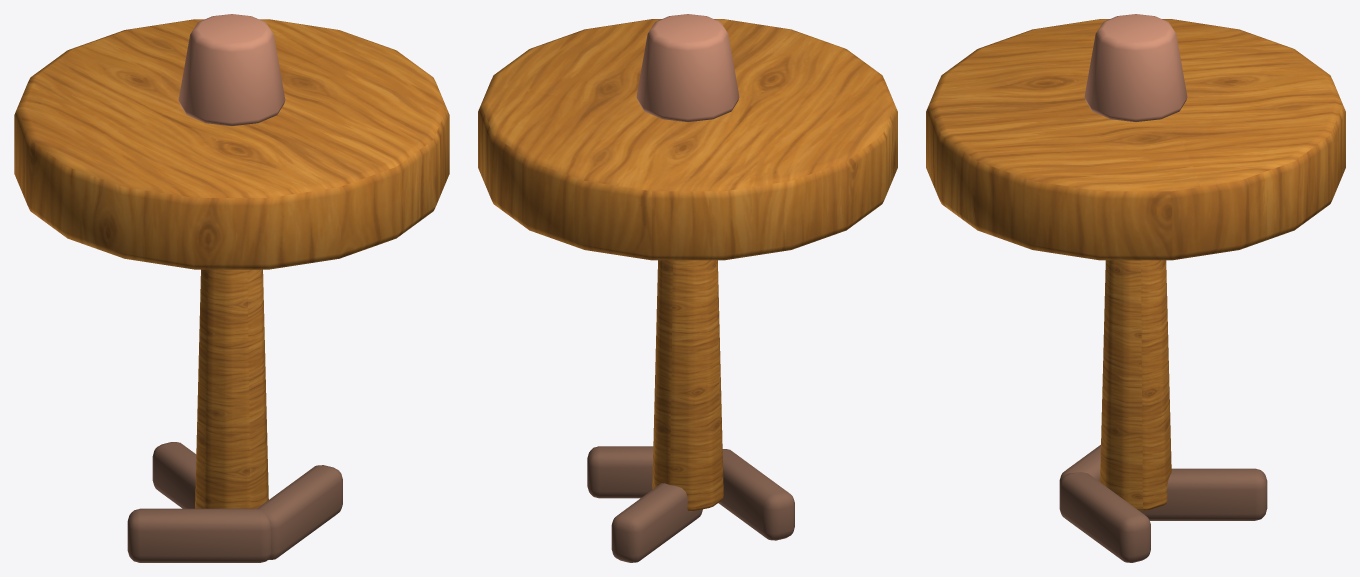
Rendered from side-table.glb.
3 views of the same model, side by side, from view 1: azimuth 30°, elevation 25°; view 2: azimuth 150°, elevation 25°; view 3: azimuth 270°, elevation 25° (orthographic). The views are drawn at different scales.
Visible parts, largest first — view 1: side-table; view 2: side-table; view 3: side-table.
Part boxes in pixels (x1,y1,x2,y2): side-table: [14, 14, 449, 562]; side-table: [478, 14, 897, 562]; side-table: [926, 14, 1345, 562].
Size of the model in its own units: 0.4538 by 0.5925 by 0.4608.
3 materials, 1 textured.
